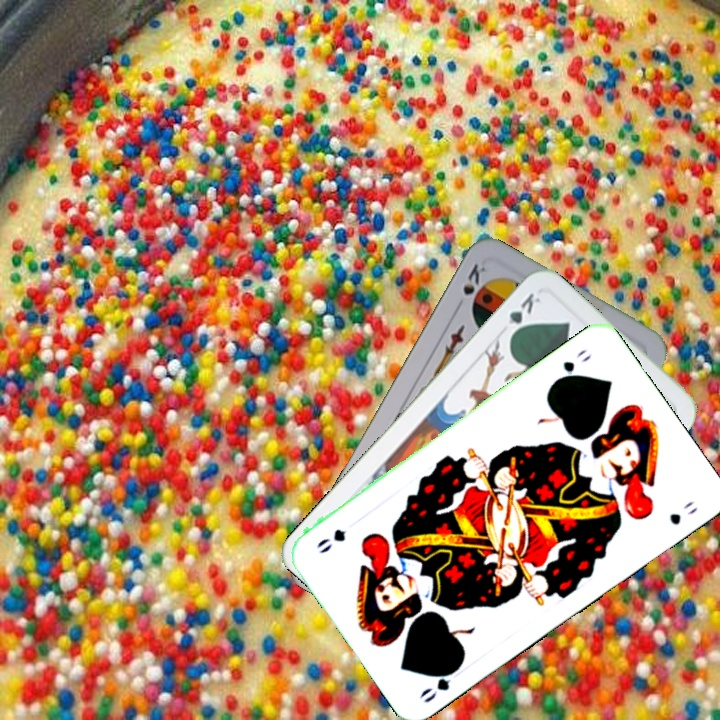GK: (503, 288, 543, 341)
GO: (415, 660, 464, 706), (549, 345, 594, 386)
SK: (451, 259, 490, 313)
